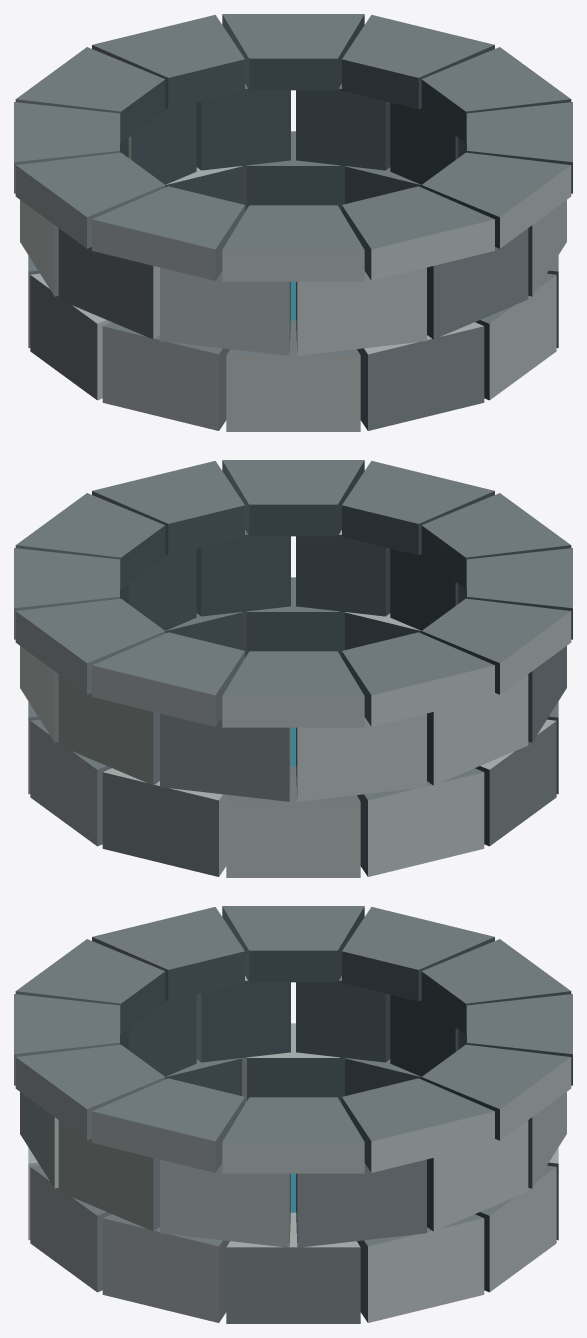
Rendered from well.fbx.
3 views of the same model, one above another, from view 1: azimuth 30°, elevation 25°; view 2: azimuth 150°, elevation 25°; view 3: azimuth 270°, elevation 25° (orthographic).
Visible parts, largest first — view 1: well_body; view 2: well_body; view 3: well_body.
Boxes of the visible parts, <box> form: well_body: <box>14,14,572,431</box>; well_body: <box>14,460,572,877</box>; well_body: <box>14,906,572,1323</box>.
Size of the model in its own units: 3.37 by 1.25 by 3.37.
1 material, 1 textured.
